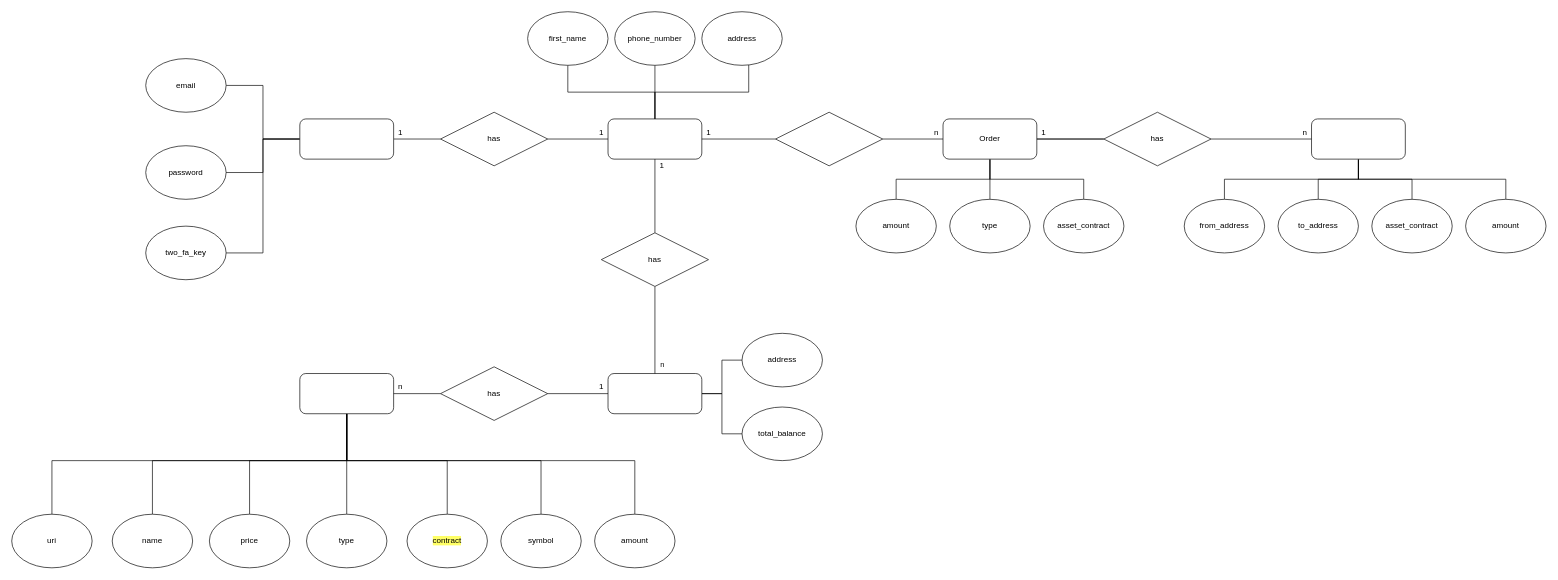
This 1558x580 diagram has some shape labels left out. The shapes that lost their labels are listed below. From the top down, each one's centre as x and y in pixels, then its label:
At point (346, 138): "Identity".
At point (654, 138): "User".
At point (829, 139): "make".
At point (1358, 138): "Transaction".
At point (346, 393): "Asset".
At point (654, 393): "Wallet".
